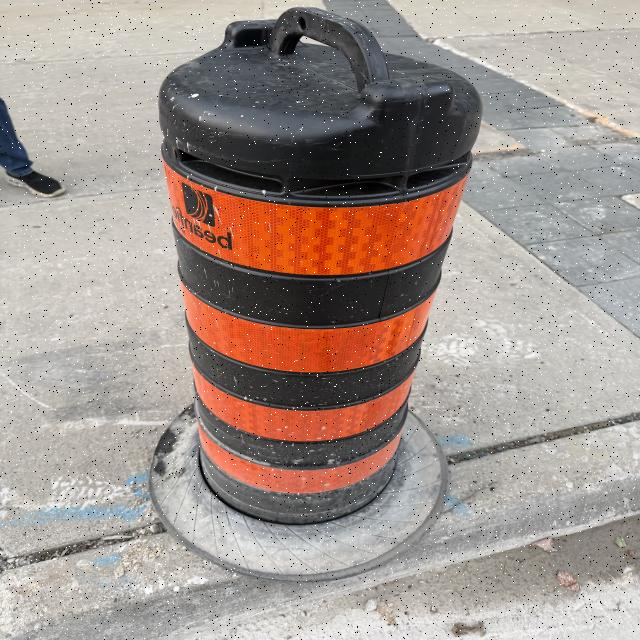Teraffic Barrel: (159, 8, 482, 524)
